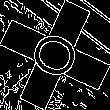O_SE: (23, 25, 87, 85)
